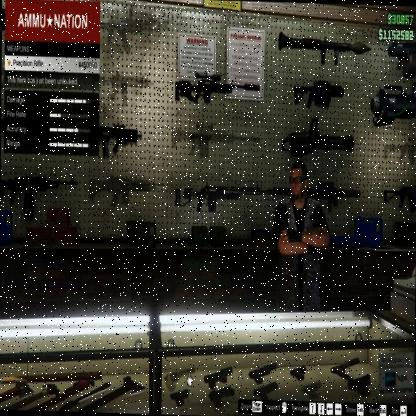rifle: (174, 183, 272, 219), (174, 69, 260, 107), (98, 121, 140, 159)
